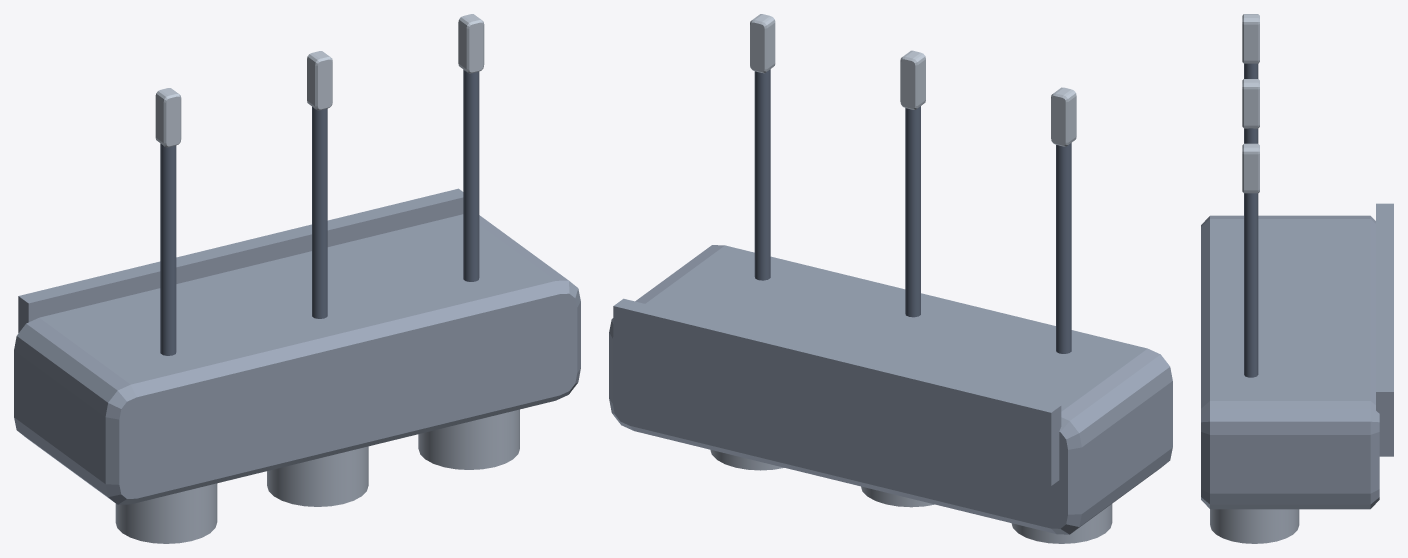
File: toothbrush-holder.glb
3 renders of one model, left to right at view 1: azimuth 30°, elevation 25°; view 2: azimuth 150°, elevation 25°; view 3: azimuth 270°, elevation 25°, orthographic. The views are drawn at different scales.
Parts seen in each view (by area): view 1: body, soft, dark, light; view 2: body, dark, light, soft; view 3: body, dark, soft, light.
Boxes of the visible parts, box(x1,y1,x2,y2) form: body: box(14, 188, 580, 504); soft: box(115, 409, 519, 543); dark: box(160, 69, 479, 355); light: box(155, 14, 484, 147); body: box(609, 245, 1172, 534); dark: box(754, 69, 1071, 353); light: box(750, 14, 1076, 146); soft: box(710, 449, 1112, 543); body: box(1201, 203, 1393, 509); dark: box(1244, 63, 1258, 377); soft: box(1210, 509, 1299, 543); light: box(1242, 14, 1259, 193).
Size of the model in its own units: 0.27 by 0.2345 by 0.108.
